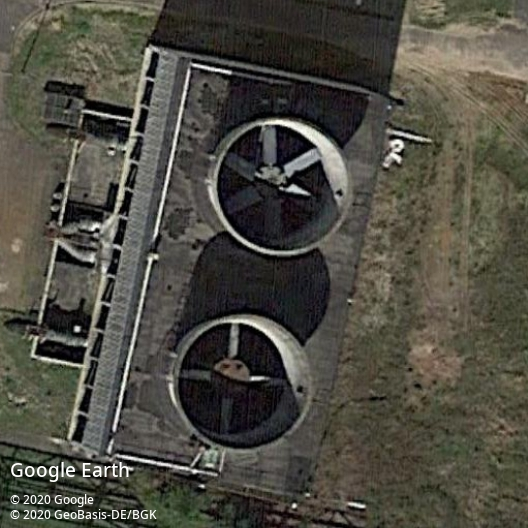Vent: (215, 121, 333, 242), (174, 318, 290, 436)
